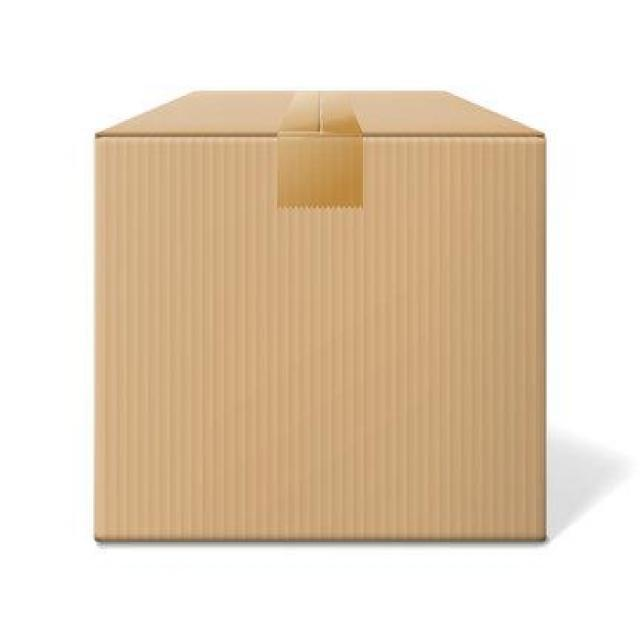box: (81, 80, 559, 555)
